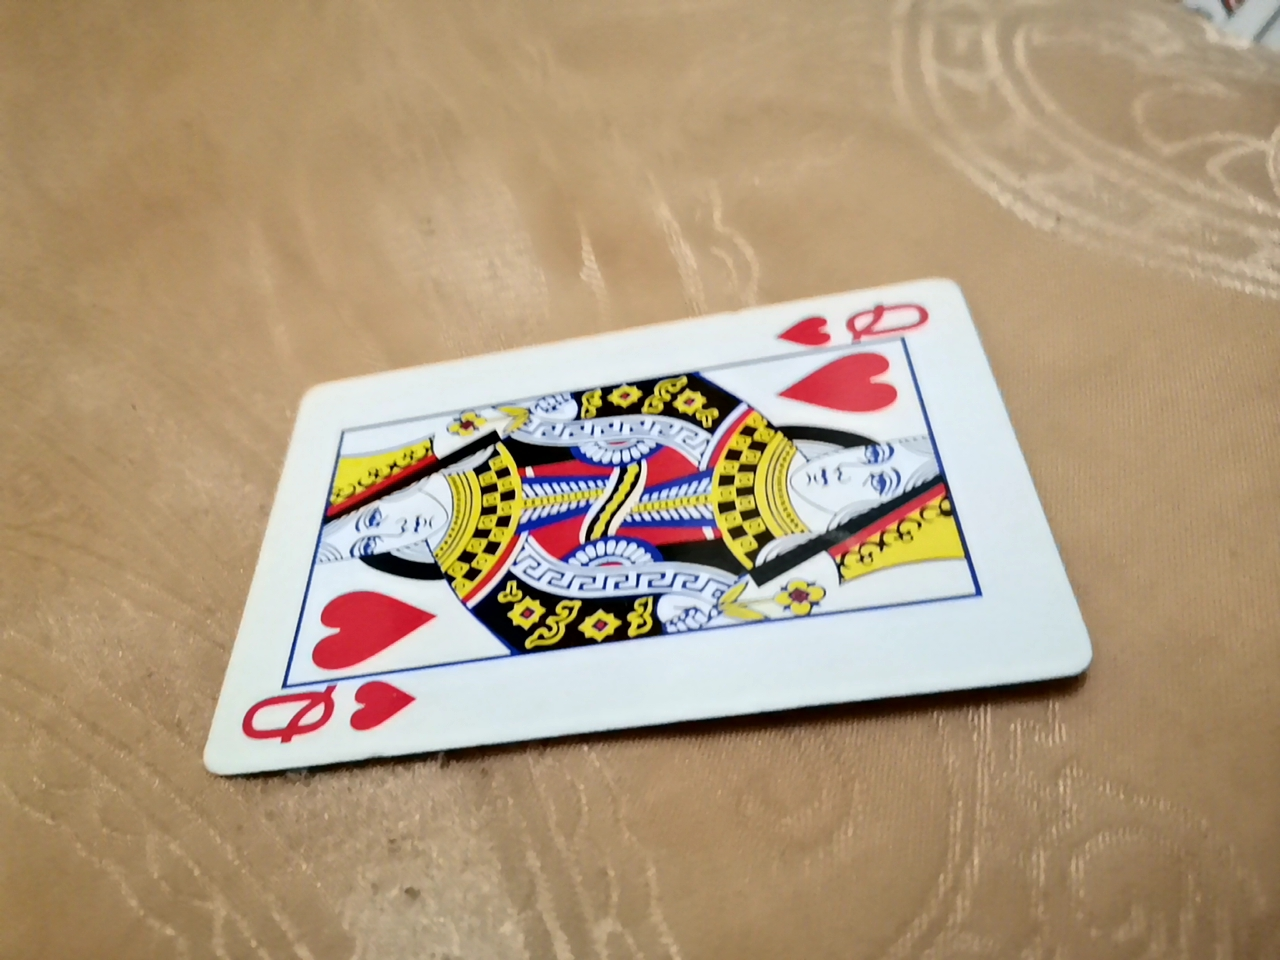hx q: (193, 309, 1108, 815)
